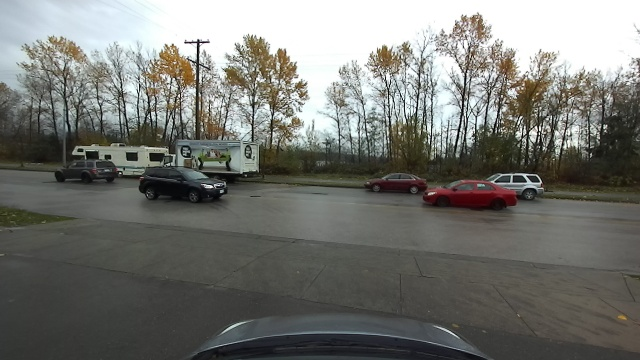car: (160, 135, 263, 178), (132, 164, 231, 201), (421, 177, 520, 212), (71, 142, 167, 176), (53, 158, 118, 187), (361, 171, 426, 198), (508, 171, 547, 198)
